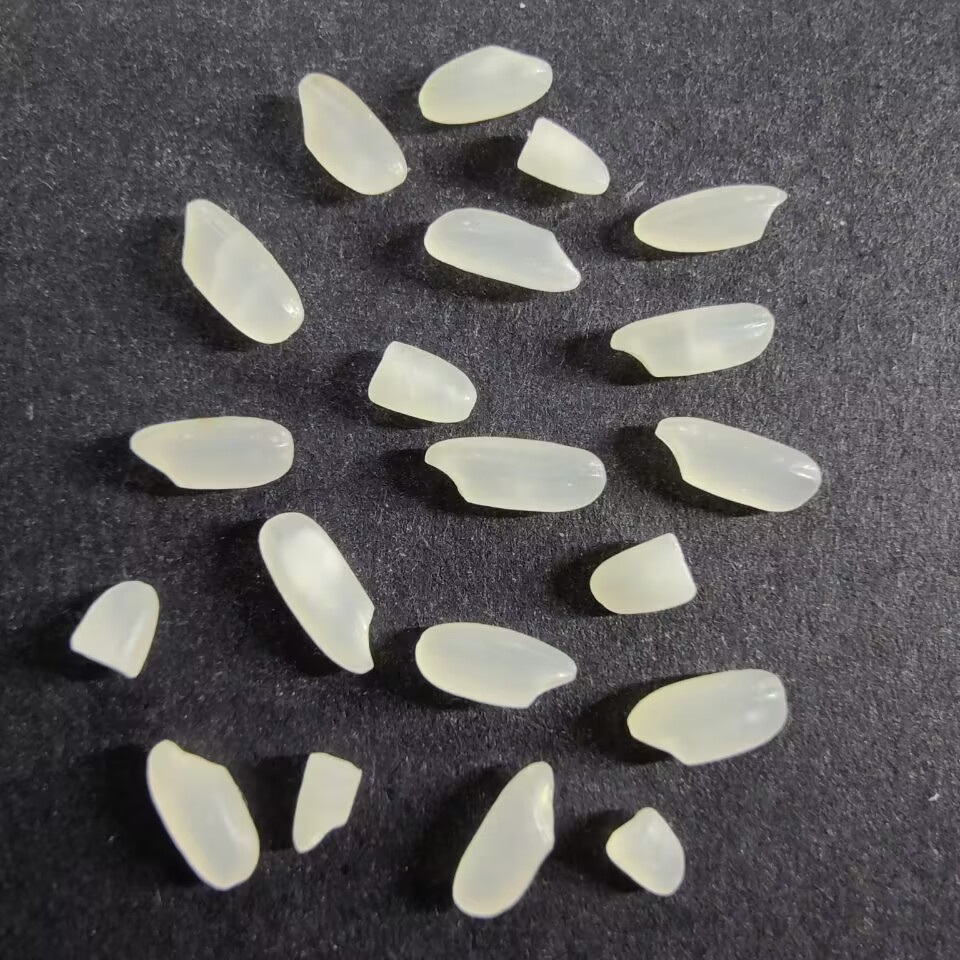broken: (582, 528, 700, 618), (364, 339, 482, 428), (66, 577, 166, 681), (514, 111, 614, 200), (288, 748, 365, 861), (601, 801, 688, 900)
rice: (255, 510, 381, 677), (178, 195, 309, 347), (141, 734, 263, 893), (449, 757, 558, 923), (651, 413, 827, 514), (623, 665, 791, 769), (410, 620, 580, 711), (291, 68, 410, 196), (419, 435, 609, 515), (602, 298, 781, 382), (420, 205, 584, 295), (125, 412, 297, 494), (630, 181, 790, 256), (415, 44, 553, 127)
